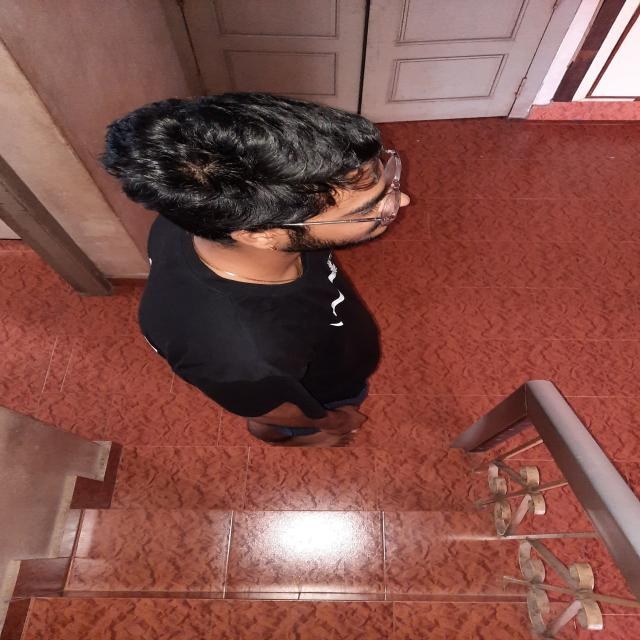humans: (89, 85, 464, 457)
